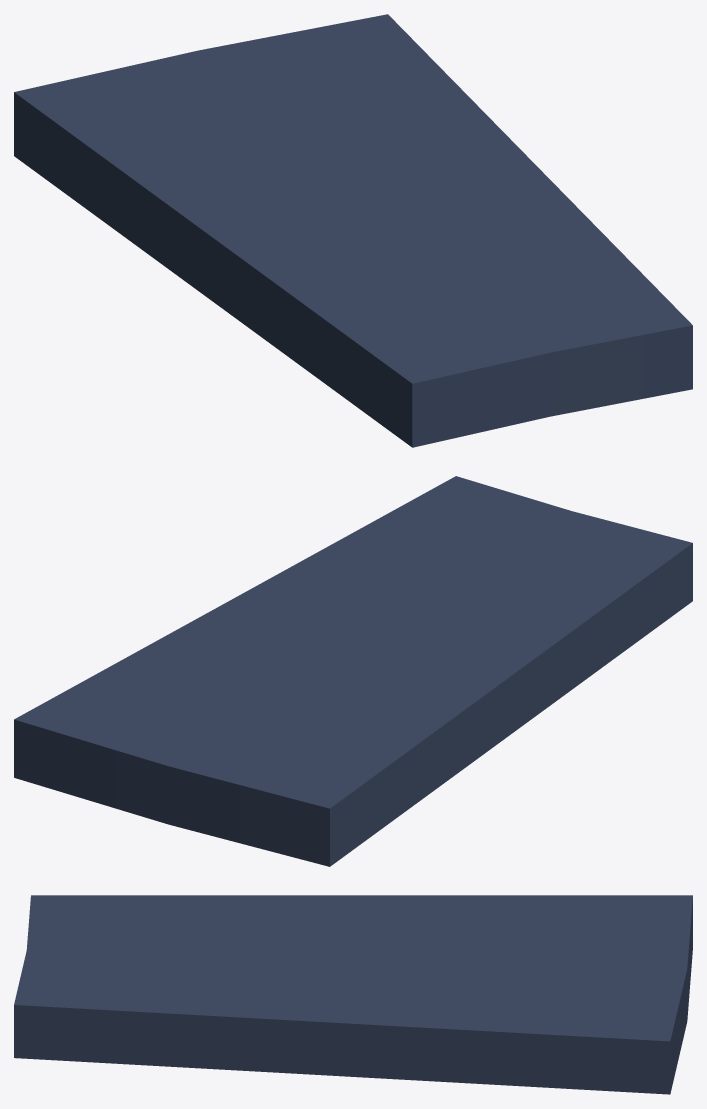
The model's file is Ring_04_Wedge_01.fbx.
The picture shows the model from 3 angles, top to bottom: view 1: azimuth 30°, elevation 25°; view 2: azimuth 150°, elevation 25°; view 3: azimuth 270°, elevation 25°; orthographic projection. The views are drawn at different scales.
Parts seen in each view (by area): view 1: Ring_04; view 2: Ring_04; view 3: Ring_04.
Part boxes in pixels (x1,y1,x2,y2): Ring_04: (14,14,692,447); Ring_04: (14,476,692,866); Ring_04: (14,895,692,1094).
Bounding box in the file's own units: 46.91 × 7.96 × 92.15.
